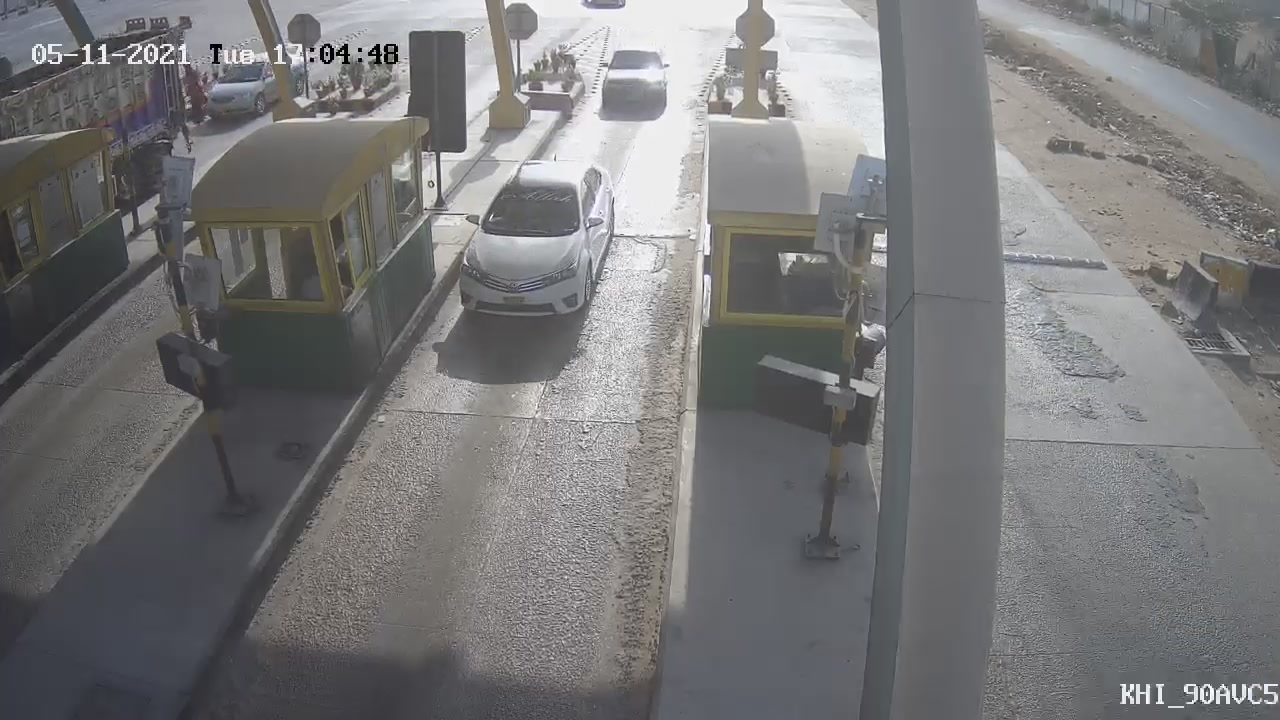F1: (438, 145, 635, 336)
